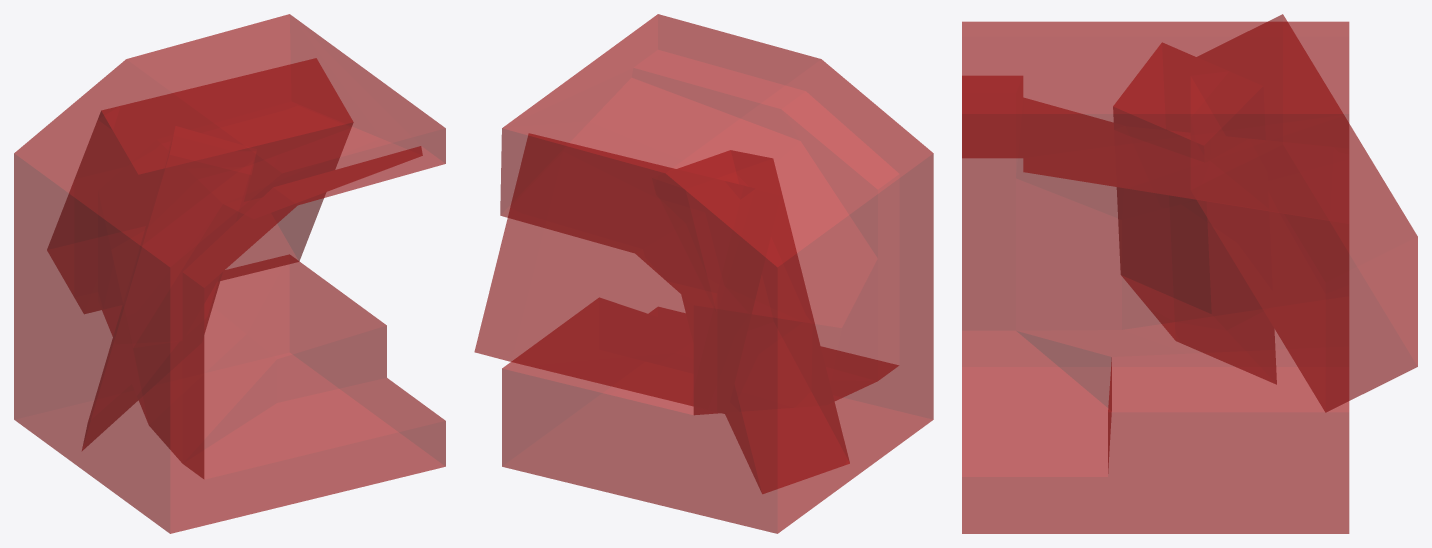
File: SM_Env_Motorway_Tunnel_Destroyed_Left_01_Collision.fbx
The picture shows the model from 3 angles, left to right: view 1: azimuth 30°, elevation 25°; view 2: azimuth 150°, elevation 25°; view 3: azimuth 270°, elevation 25°; orthographic projection. The views are drawn at different scales.
Visible parts, largest first — view 1: SM_Env_Motorway_Tunnel_Destroyed_Left_01_Collision; view 2: SM_Env_Motorway_Tunnel_Destroyed_Left_01_Collision; view 3: SM_Env_Motorway_Tunnel_Destroyed_Left_01_Collision.
Boxes of the visible parts, left/top/right/bottom form: SM_Env_Motorway_Tunnel_Destroyed_Left_01_Collision: left=14, top=14, right=445, bottom=533; SM_Env_Motorway_Tunnel_Destroyed_Left_01_Collision: left=474, top=14, right=933, bottom=533; SM_Env_Motorway_Tunnel_Destroyed_Left_01_Collision: left=962, top=14, right=1417, bottom=533.
Bounding box in the file's own units: 650 × 751 × 739.
